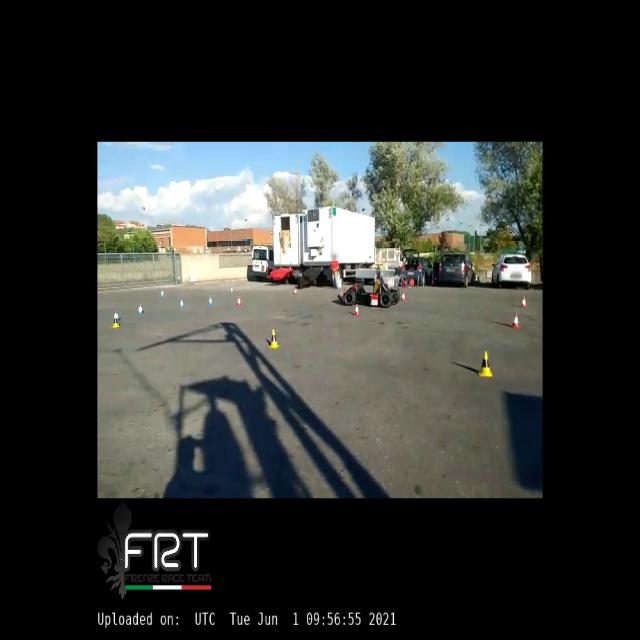blue_cone: (112, 310, 120, 322), (137, 304, 144, 315), (159, 288, 166, 298), (208, 296, 214, 306), (229, 286, 234, 294), (180, 298, 183, 308)
orange_cone: (512, 314, 520, 328), (353, 304, 359, 316), (401, 288, 406, 302), (520, 297, 526, 308), (237, 296, 242, 306)
unknown_cone: (292, 286, 297, 296)
yellow_cone: (479, 351, 492, 376), (268, 329, 279, 347), (112, 315, 120, 328)
